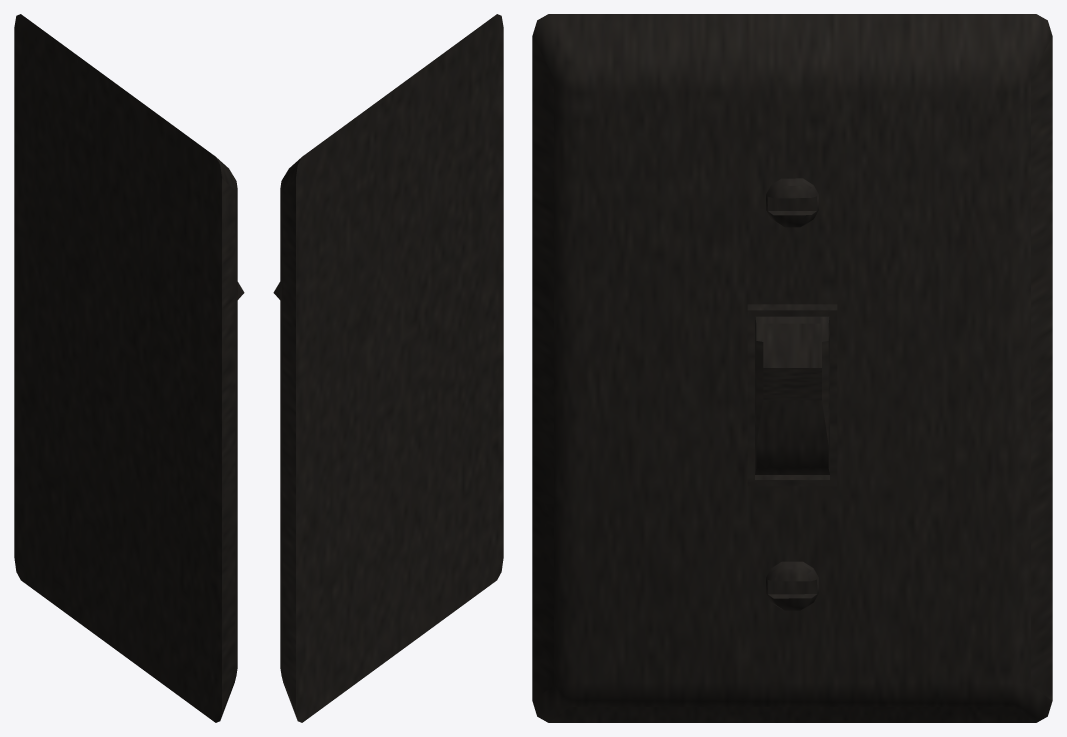
File: Switch Black.fbx
The picture shows the model from 3 angles, left to right: view 1: azimuth 30°, elevation 25°; view 2: azimuth 150°, elevation 25°; view 3: azimuth 270°, elevation 25°; orthographic projection. The views are drawn at different scales.
Parts seen in each view (by area): view 1: Switch Black; view 2: Switch Black; view 3: Switch Black.
Boxes of the visible parts, x1,y1,x2,y2 form: Switch Black: [14, 14, 244, 722]; Switch Black: [273, 14, 503, 722]; Switch Black: [532, 14, 1052, 722].
Bounding box in the file's own units: 3.37 × 15.93 × 10.59.
